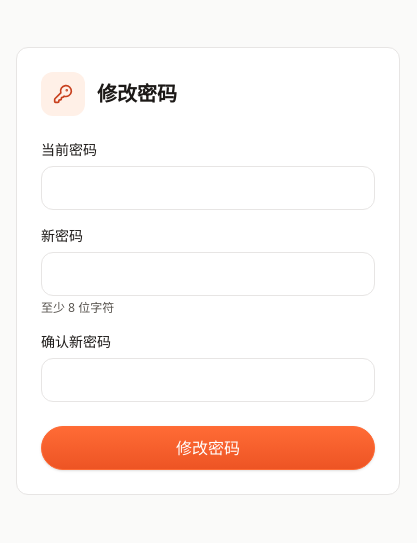
Test: password service errors stay visible to assistive technology
The width and height of the screenshot is (417, 543).
Type "old-password" into the password field named "currentPassword" at {"x": 208, "y": 188}, box [41, 166, 375, 210]
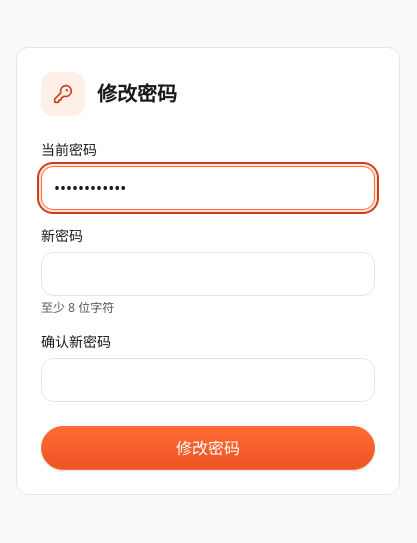
Type "new-password-1" into the password field named "newPassword" at {"x": 208, "y": 274}, box [41, 252, 375, 296]
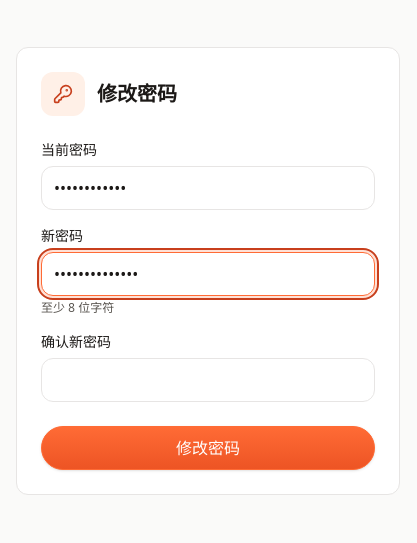
Type "new-password-1" into the password field named "confirmPassword" at {"x": 208, "y": 380}, box [41, 358, 375, 402]
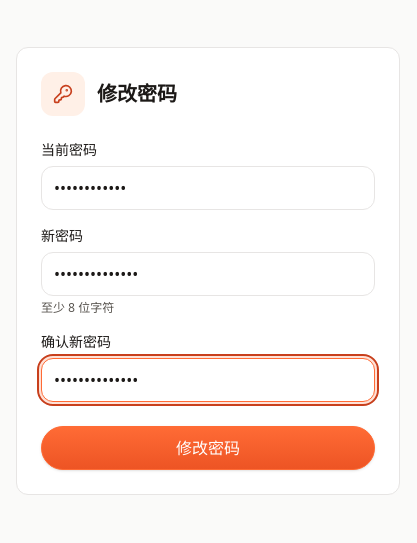
Click the button "修改密码" at {"x": 208, "y": 448}, box [41, 426, 375, 470]
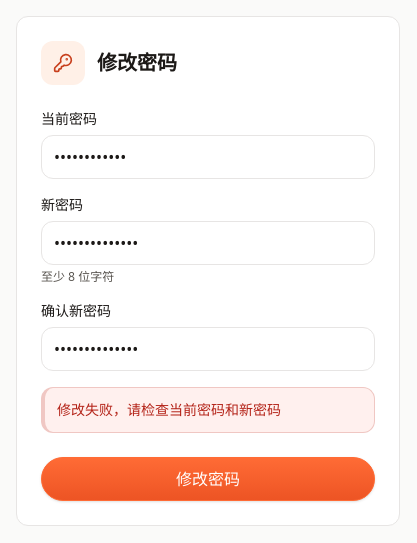
Check: the message reads "修改失败，请检查当前密码和新密码", box [57, 400, 281, 419]
